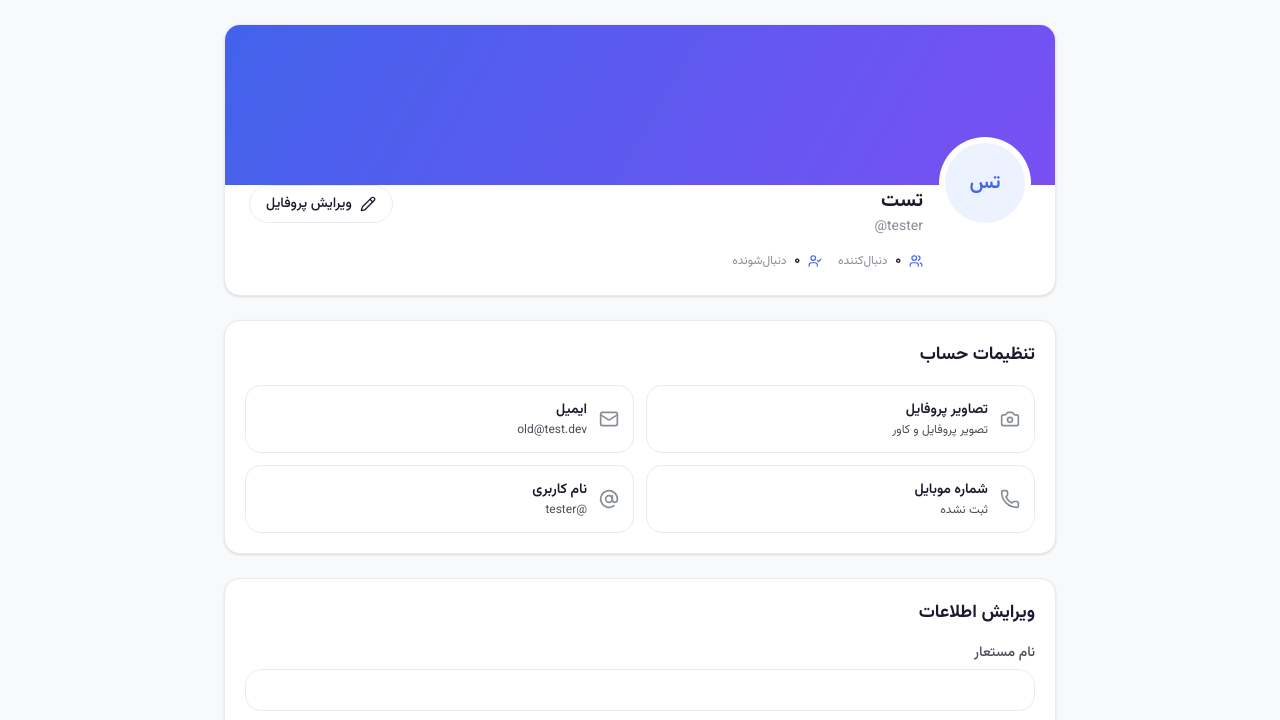
profile change flows (otpRequired contract) › opens the OTP modal for change-phone on otpRequired: true
Check: the heading "تنظیمات حساب" is shown, box [920, 341, 1035, 369]
Click the button "شماره موبایل ثبت نشده" at (951, 490), box [646, 465, 1035, 533]
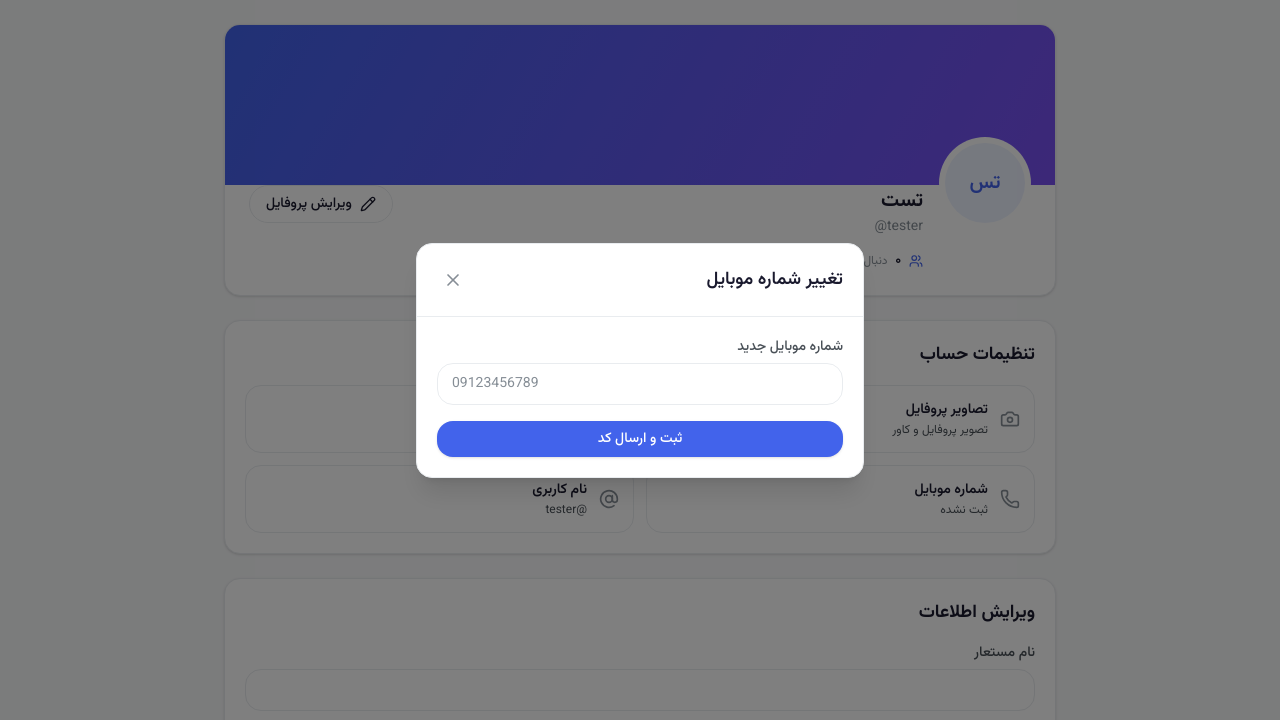
Check: the field with placeholder "09123456789" is shown
Type "09123456788" into the field with placeholder "09123456789" at (640, 384), box [437, 362, 843, 404]
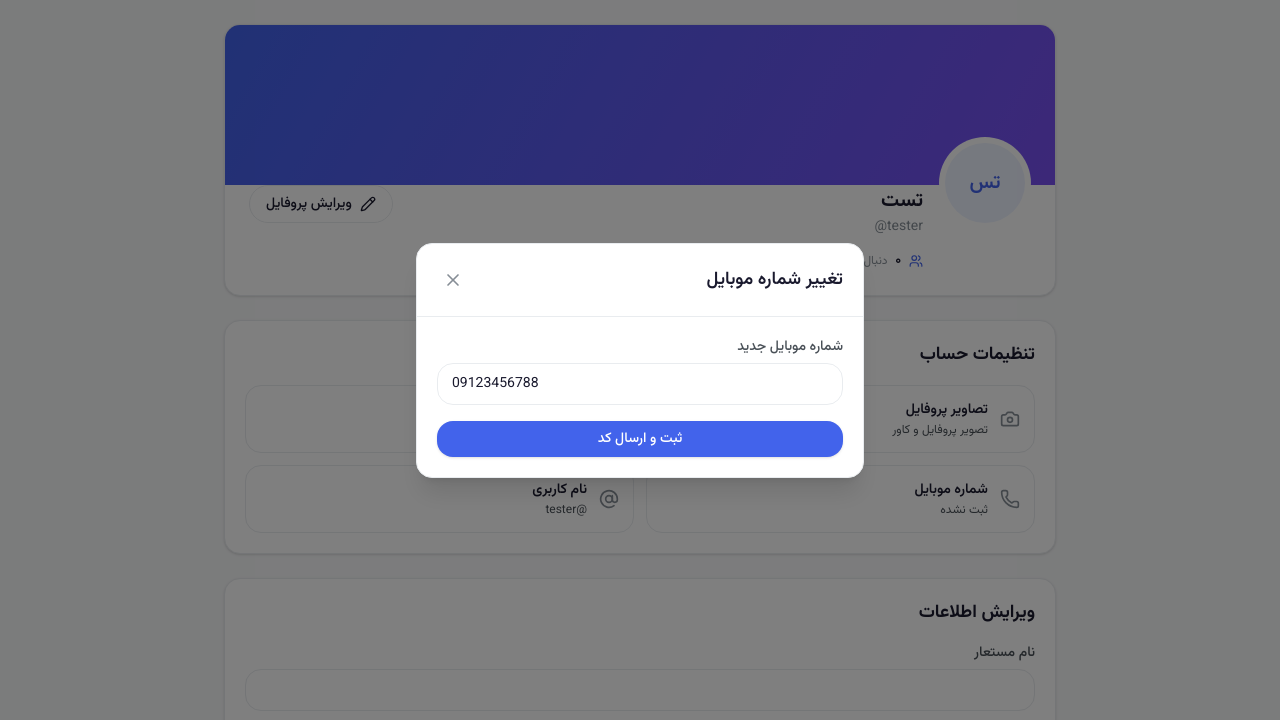
Click the button "ثبت و ارسال کد" at (640, 438), box [437, 420, 843, 456]
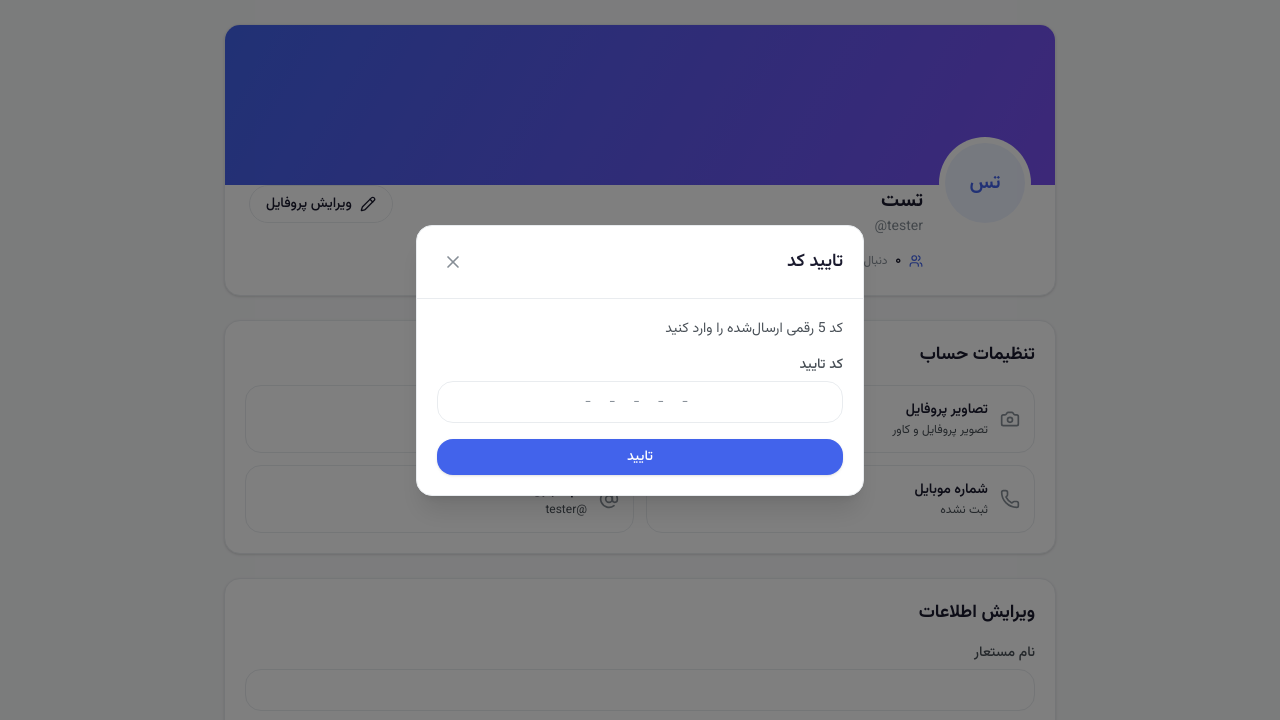
Check: the text "کد 5 رقمی ارسال‌شده را وارد کنید" is shown, box [665, 318, 843, 340]
